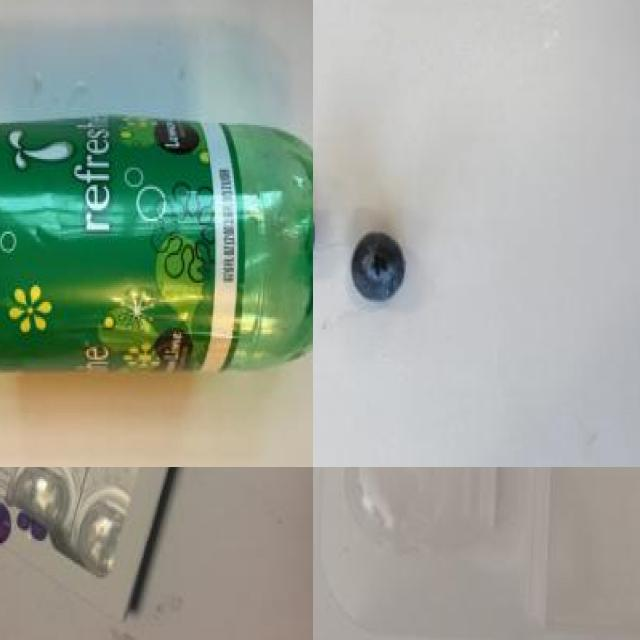compost: (313, 139, 433, 372)
plastic: (0, 110, 313, 374), (326, 467, 640, 640)
trash: (0, 467, 266, 617)
